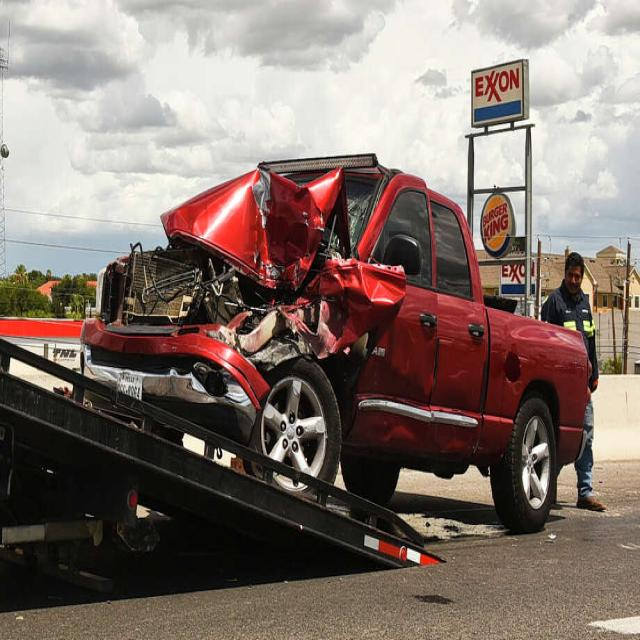crush: (80, 153, 439, 462)
